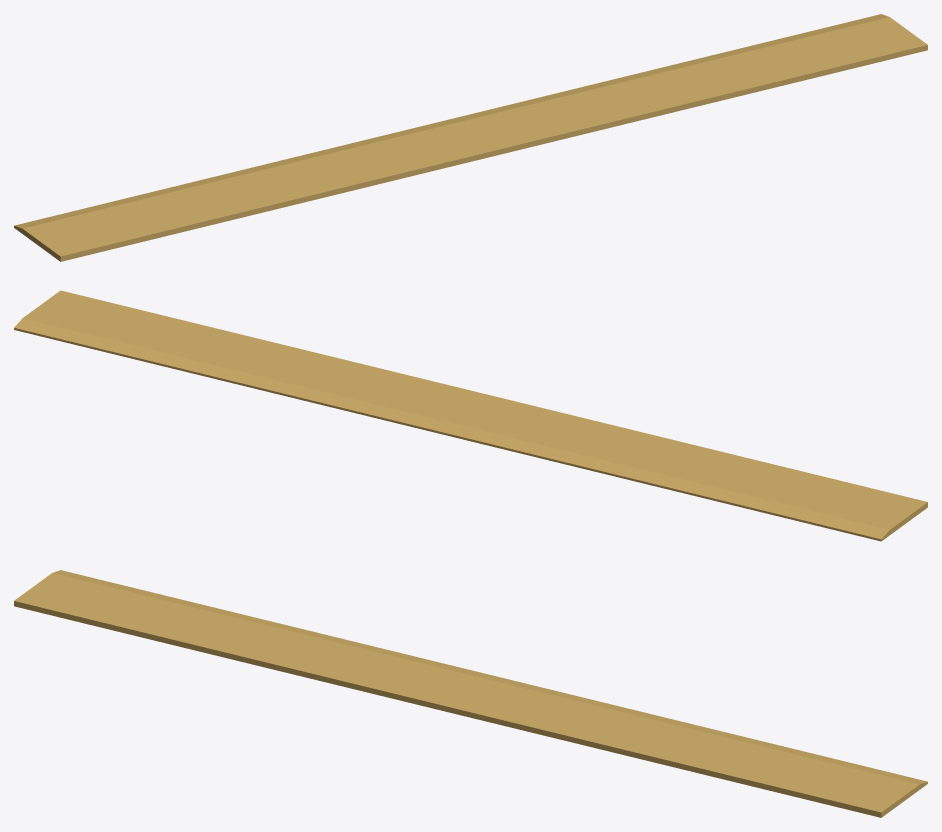
File: Ruler.fbx
The picture shows the model from 3 angles, top to bottom: view 1: azimuth 30°, elevation 25°; view 2: azimuth 150°, elevation 25°; view 3: azimuth 330°, elevation 25°; orthographic projection.
Visible parts, largest first — view 1: Ruler; view 2: Ruler; view 3: Ruler.
Part boxes in pixels (x1=…): Ruler: x1=14, y1=14, x2=927, y2=261; Ruler: x1=14, y1=290, x2=927, y2=541; Ruler: x1=14, y1=570, x2=927, y2=817.
Bounding box in the file's own units: 200 × 1.19 × 18.62.
